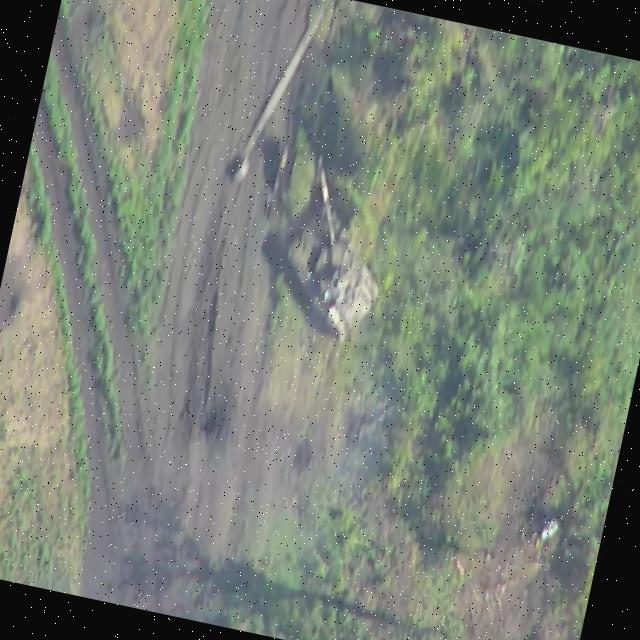MBT: (268, 151, 411, 349)
